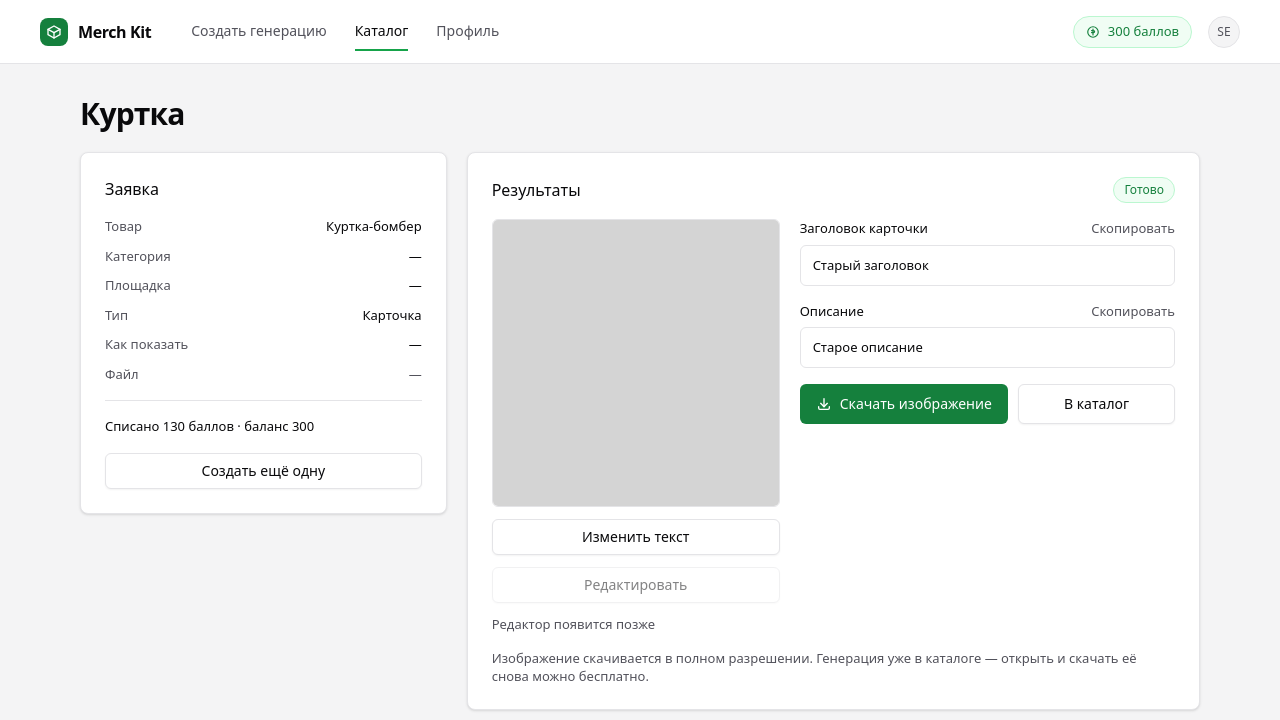
Test: Экран результата: правка текста карточки (B7.6) › карточка собрана до появления правки — вместо формы объяснение
Click the button "Изменить текст". click: (636, 537)
box: [492,519,780,555]
(page scrolled)
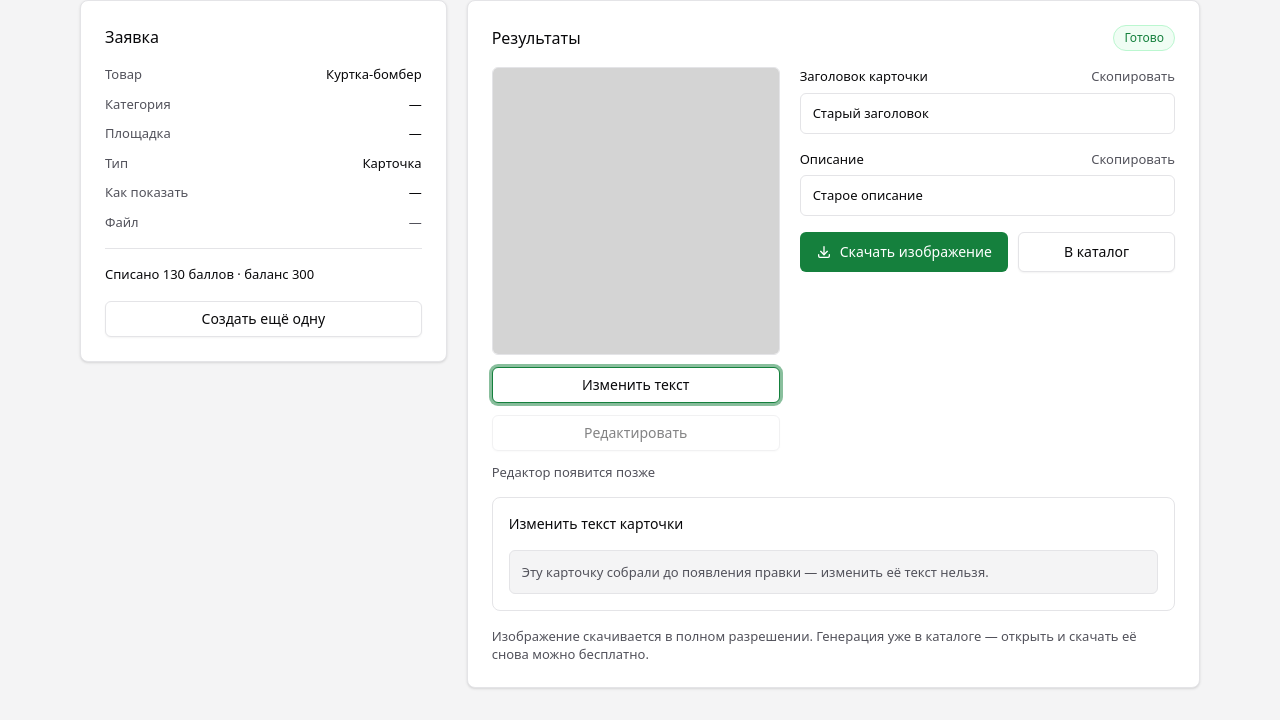
Check: the text "собрали до появления правки" is shown, box [522,563,989,581]
